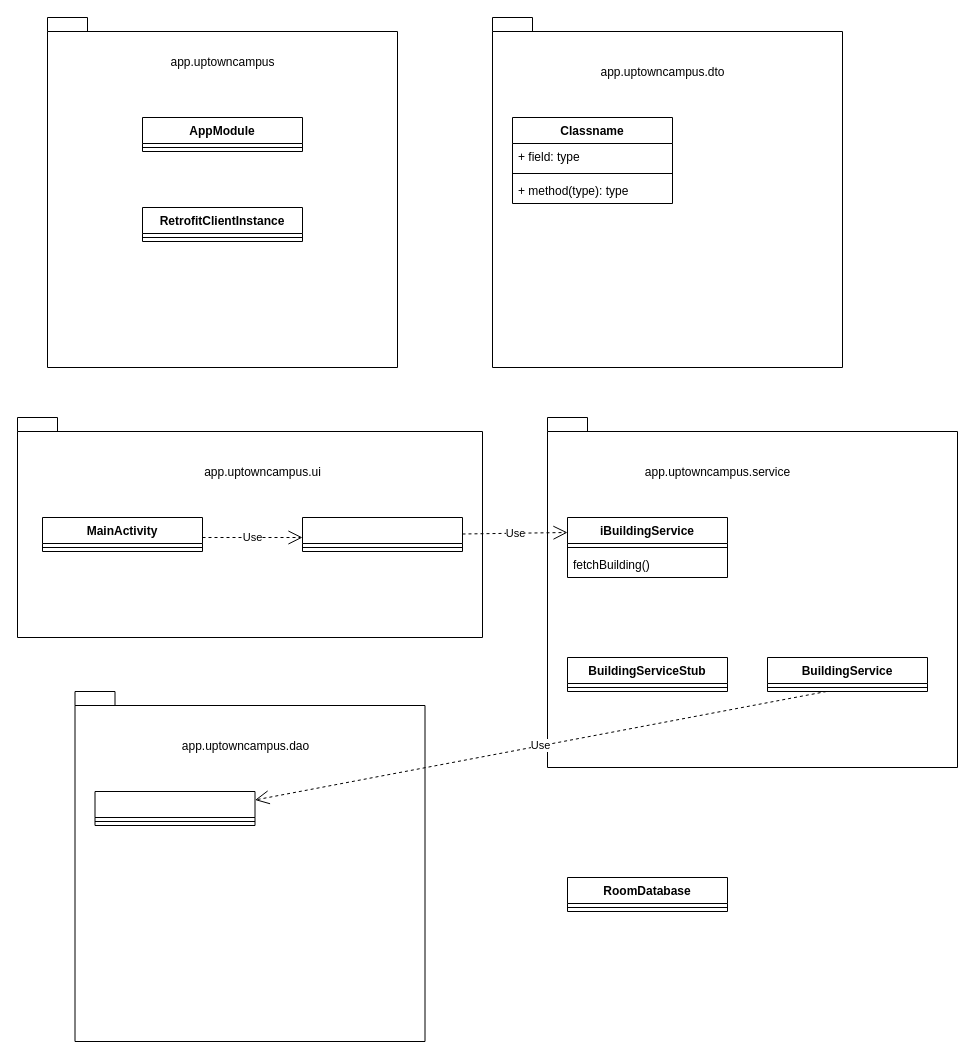
This 975x1059 diagram has some shape labels left out. Here are the shapes that lost their labels. From the top down, the centre of each, then its label:
At (x=382, y=534): "ViewModel".
At (x=174, y=808): "iBuildingDAO".
